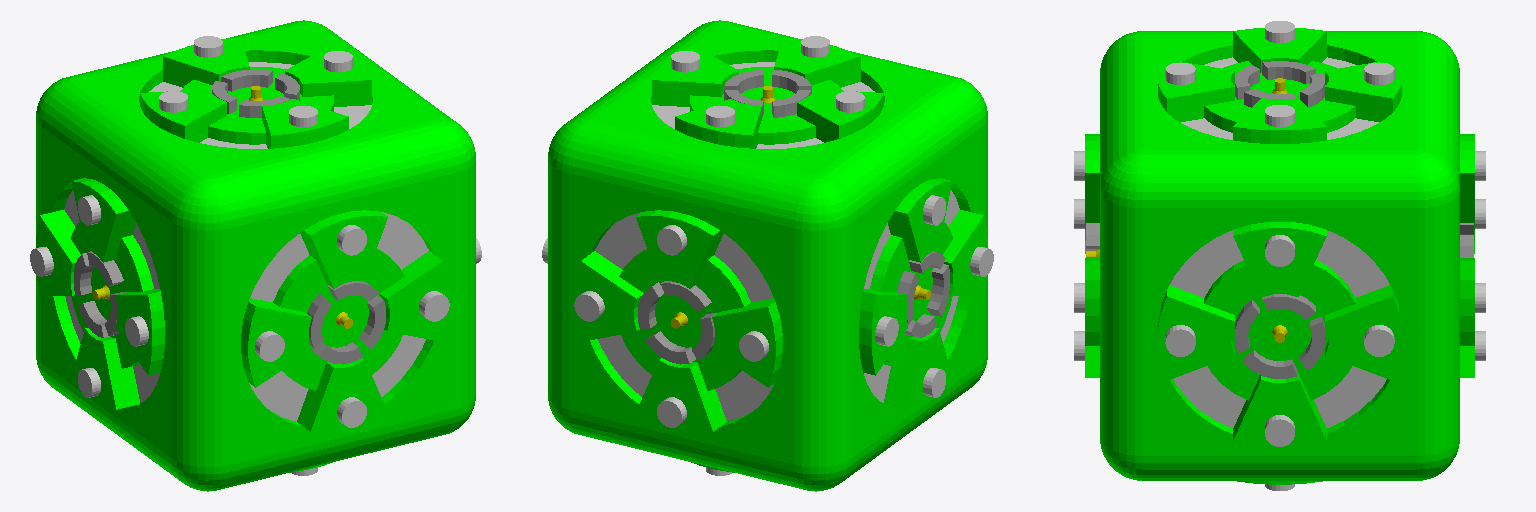
The robot description file, URDF, robot "passive_cubelet":
<?xml version="1.0"?>
<robot name="passive_cubelet">
  <link name="passive">
    <inertial>
      <origin xyz="0.0 0.0 0.0" /> 
      <mass value="0.1222" />
      <!--INERTIA IS kilogram per meter squared -->
      <!--Assumes cube density of 0.06 pounds mass per cubic inch -->
      <inertia  ixx="0.00003593" ixy="0.0"  ixz="0.0"  iyy="0.00003593"  iyz="0.0"  izz="0.00003593" />
    </inertial>
    <visual>
      <origin xyz="0 0 0"/>
      <geometry>
	<mesh filename="package://Cubelet/stl/passive.dae"/>
      </geometry>
    </visual>
    <collision>
      <origin xyz="0 0 0"/>
      <geometry>
	<!--BOX DIMENSIONS ARE IN meters -->
        <cylinder length="0.042" radius="0.021" />
      </geometry>
    </collision>
  </link>
  <gazebo reference="passive">
    <!--material>Gazebo/Green</material-->
    <kp>100000000.0</kp>
    <kd>1000000.0</kd>
  </gazebo>
  <gazebo>
    <canonicalBody>passive</canonicalBody>
  </gazebo>
</robot>

--- What the picture shows (computed from the rendered views, not written in the file) ---
Views: 3 orthographic renders of the robot side by side, from view 1: azimuth 30°, elevation 25°; view 2: azimuth 150°, elevation 25°; view 3: azimuth 270°, elevation 25°.
Robot: passive_cubelet — 1 links, 0 joints (none); root link passive; default pose: all joints at 0.
Visible links, largest first — view 1: passive; view 2: passive; view 3: passive.
Link boxes in pixels (x1,y1,x2,y2): passive: [30, 20, 481, 491]; passive: [542, 20, 993, 491]; passive: [1074, 21, 1485, 490].
Bounding box of the posed robot: 0.048 × 0.048 × 0.048 m (x, y, z).
Meshes: 1 distinct files referenced, 1 mesh visuals loaded (1 Collada DAE).